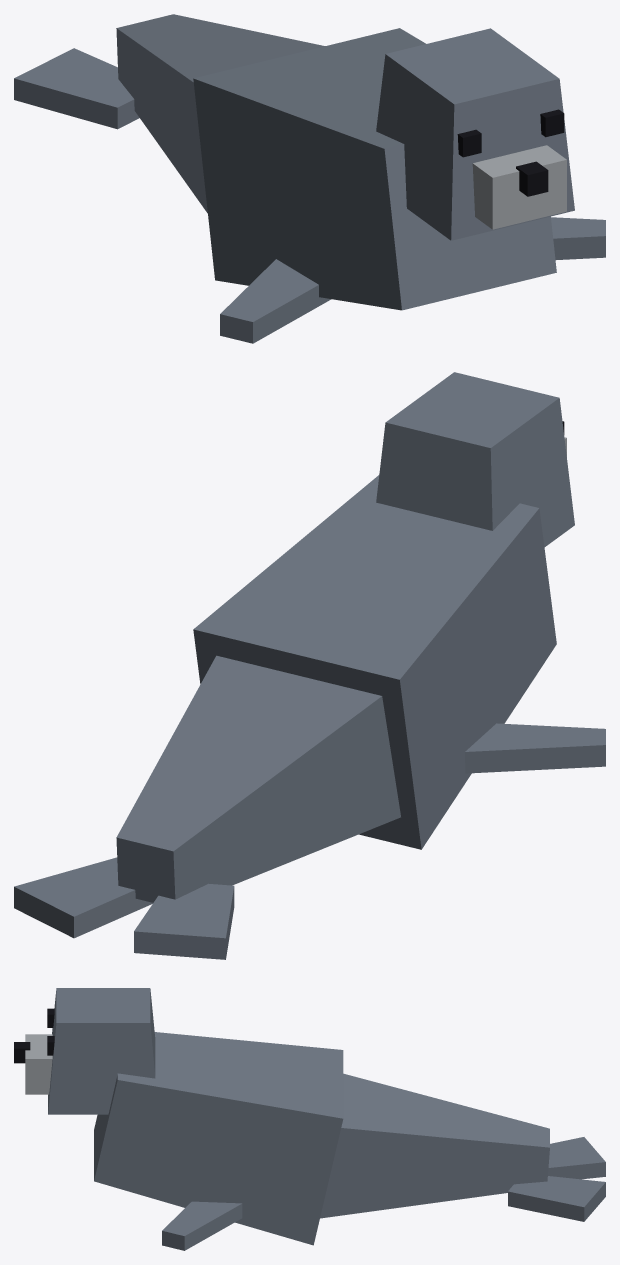
File: seal.glb
3 renders of one model, top to bottom at view 1: azimuth 30°, elevation 25°; view 2: azimuth 150°, elevation 25°; view 3: azimuth 270°, elevation 25°, orthographic. The views are drawn at different scales.
Parts seen in each view (by area): view 1: seal; view 2: seal; view 3: seal.
Part boxes in pixels (left/top/right/bottom): seal: left=14, top=14, right=605, bottom=343; seal: left=14, top=372, right=605, bottom=959; seal: left=14, top=988, right=605, bottom=1250.
Bounding box in the file's own units: 0.9344 × 0.698 × 1.82.
